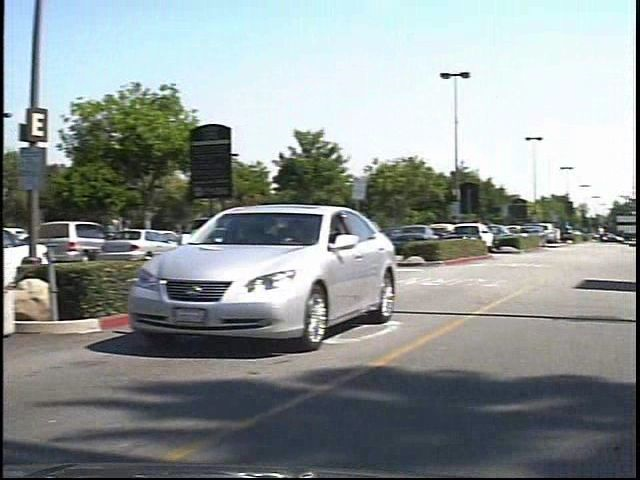person: (115, 213, 142, 263)
